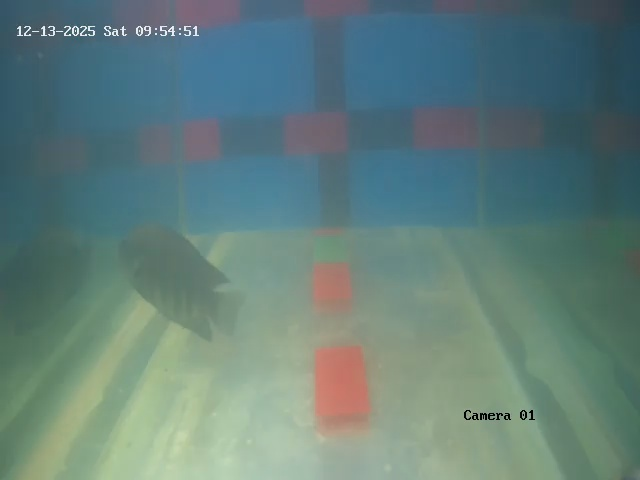fish: (111, 220, 243, 336)
